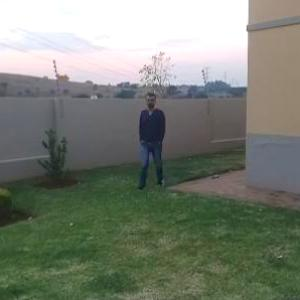follow: (136, 90, 170, 190)
